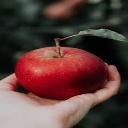apple: (12, 37, 107, 101)
